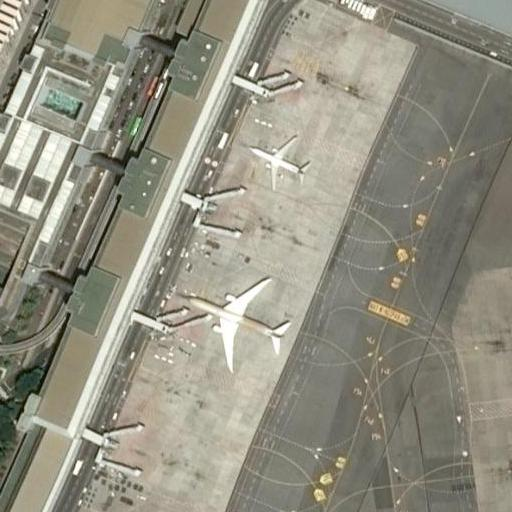Aircraft: (182, 278, 293, 371), (249, 132, 307, 188)
